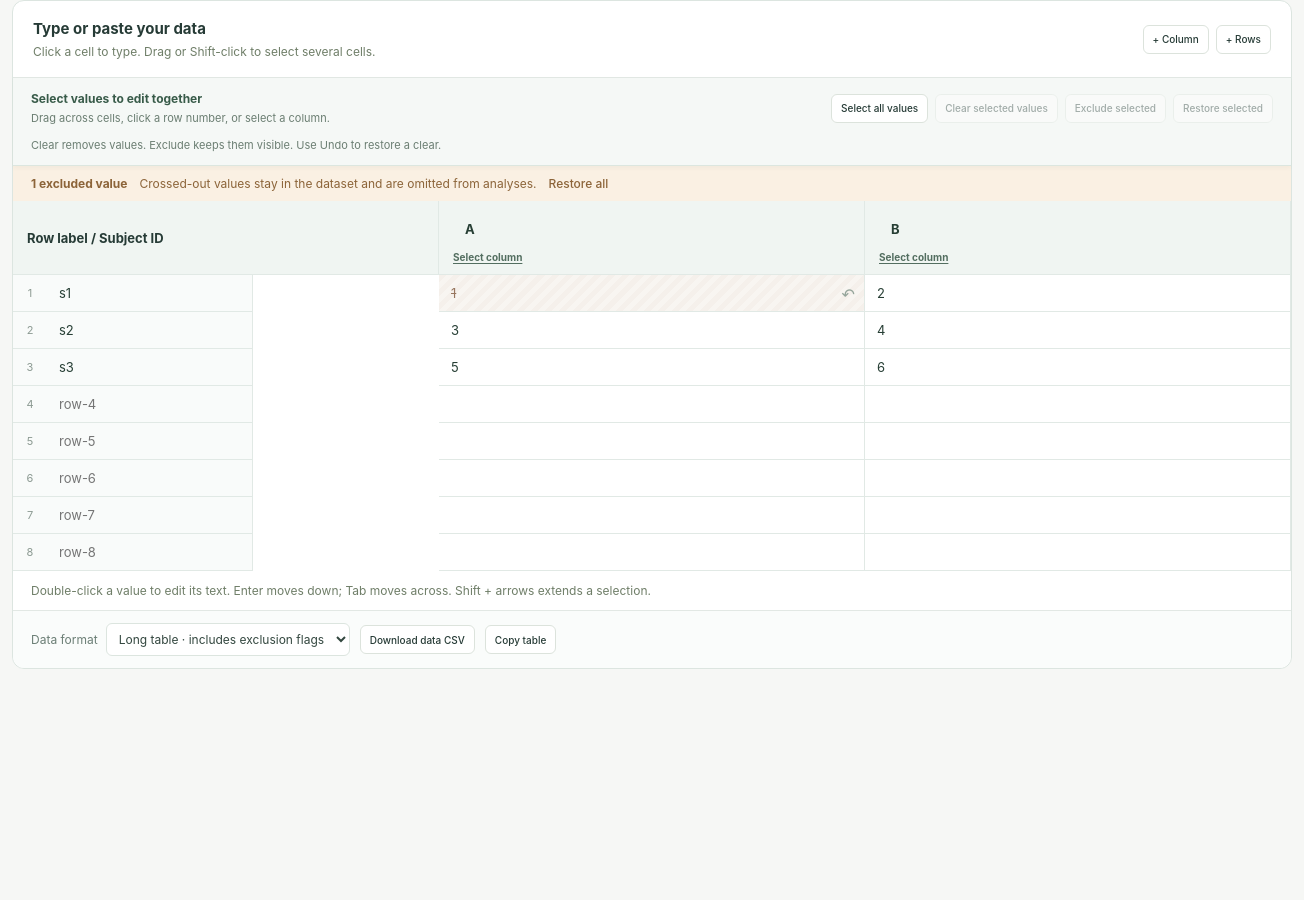
Test: supports drag selection, one keyboard clear and one workspace Undo restoring every affected value
Step 1. Press the mouse on the field named "A, row 1" → (652, 293), box x1=439 y1=275 x2=864 y2=311
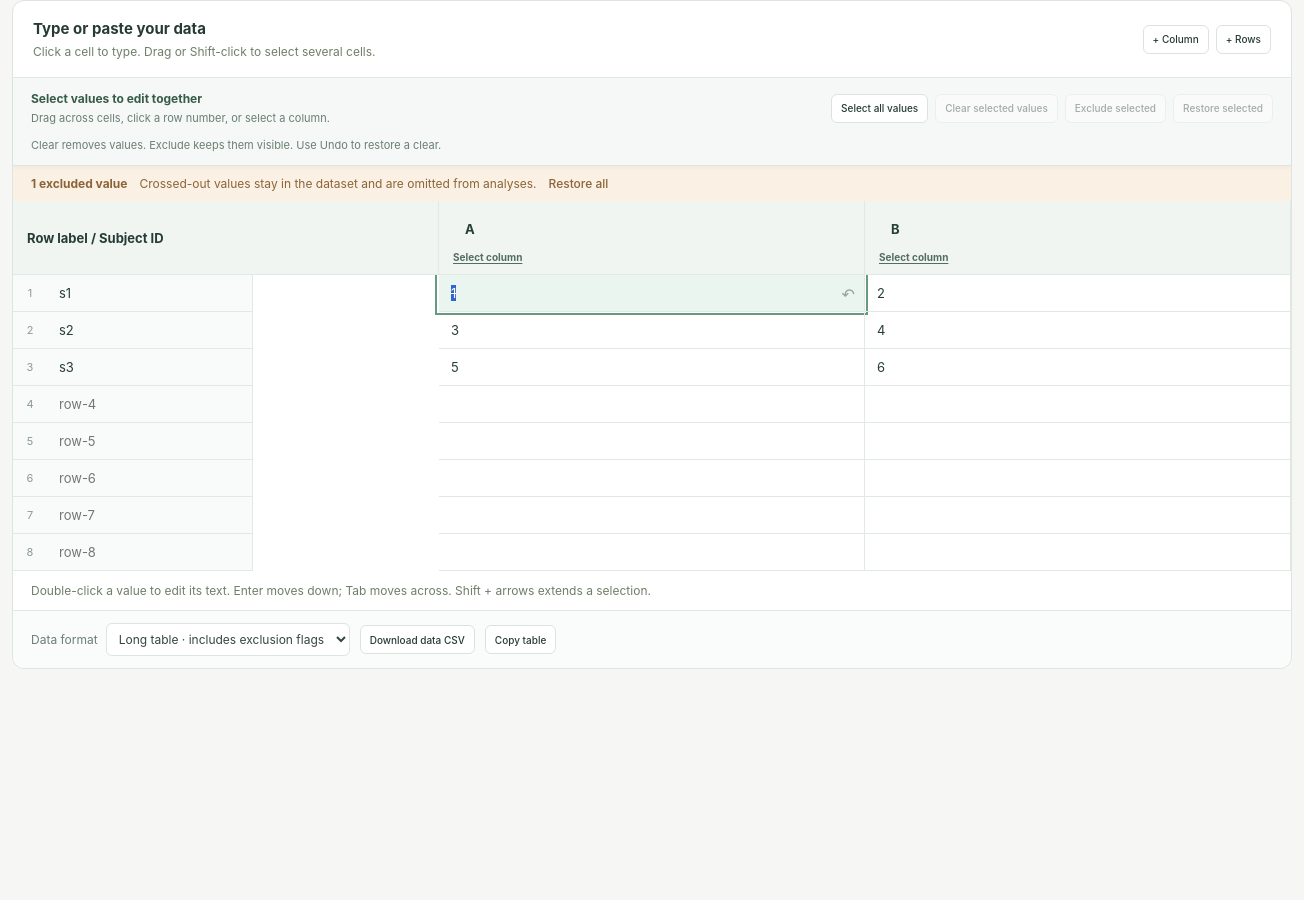
Step 2. Hover over the field named "B, row 2" → (1078, 330), box x1=865 y1=312 x2=1290 y2=348
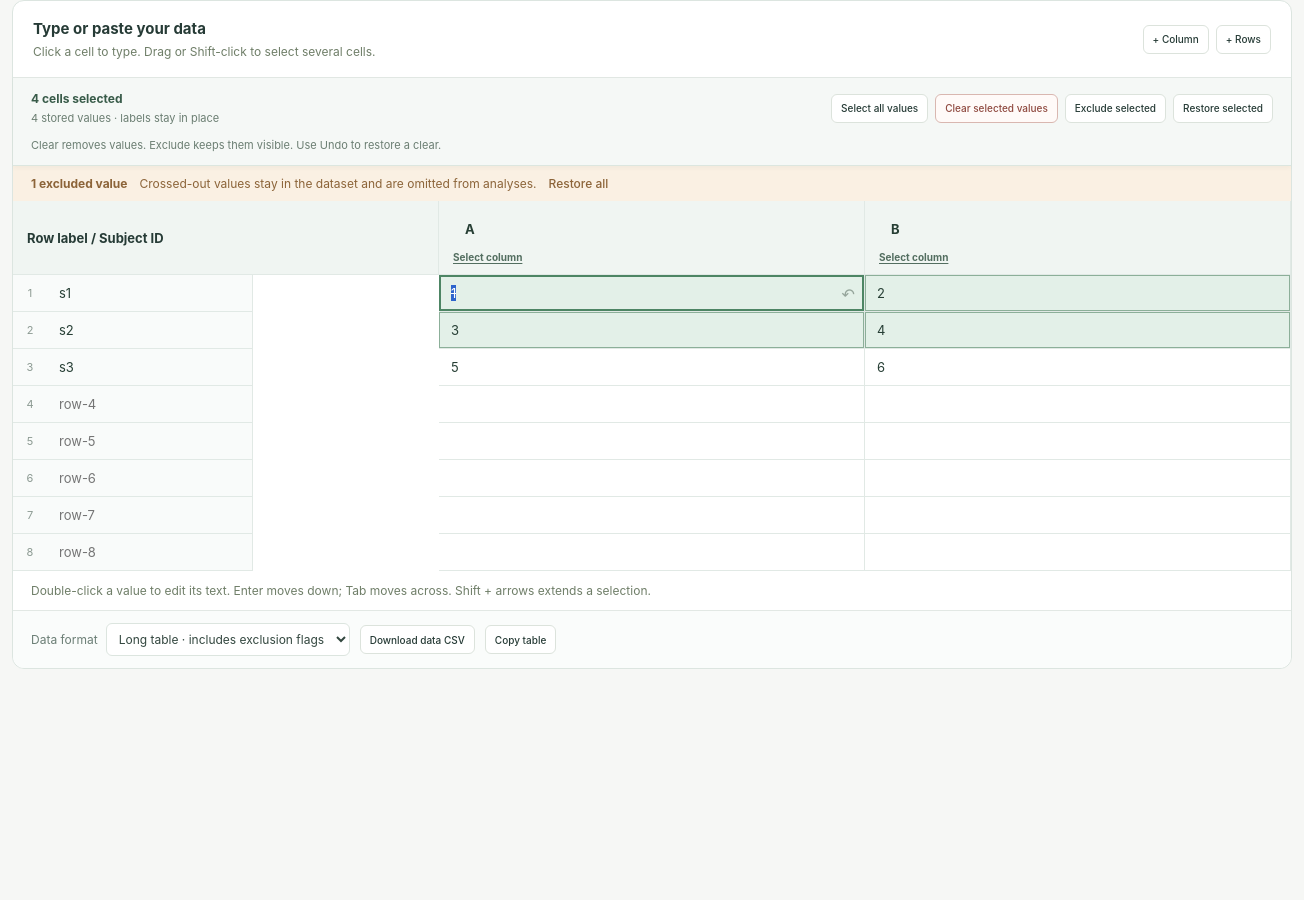
Expected: the text "4 cells selected" is shown, x1=31 y1=91 x2=123 y2=106
Step 3. Press Delete in the field named "A, row 1", box x1=439 y1=275 x2=864 y2=311
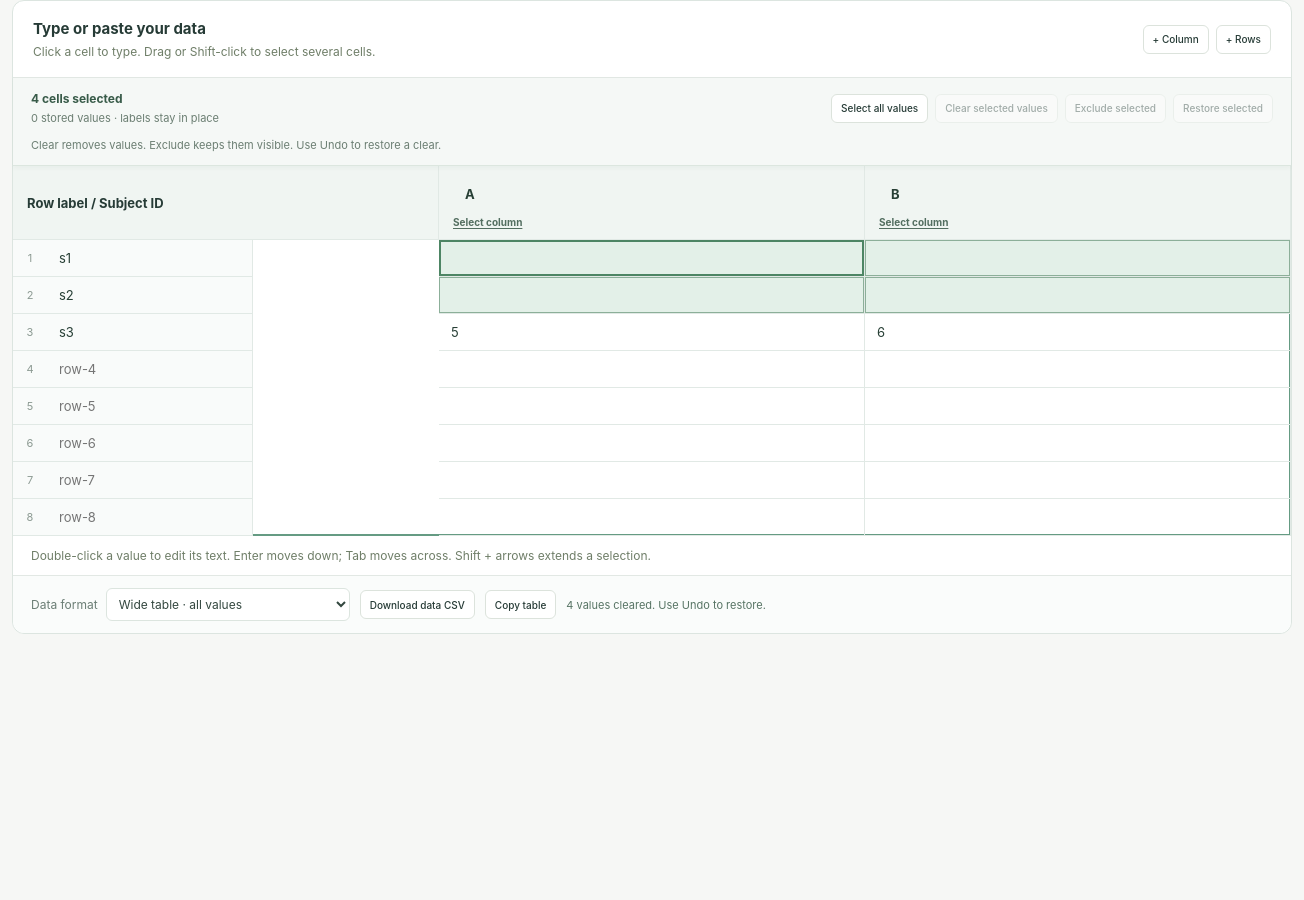
Step 4. Press z in the element named "Data cells", box x1=13 y1=166 x2=1291 y2=536
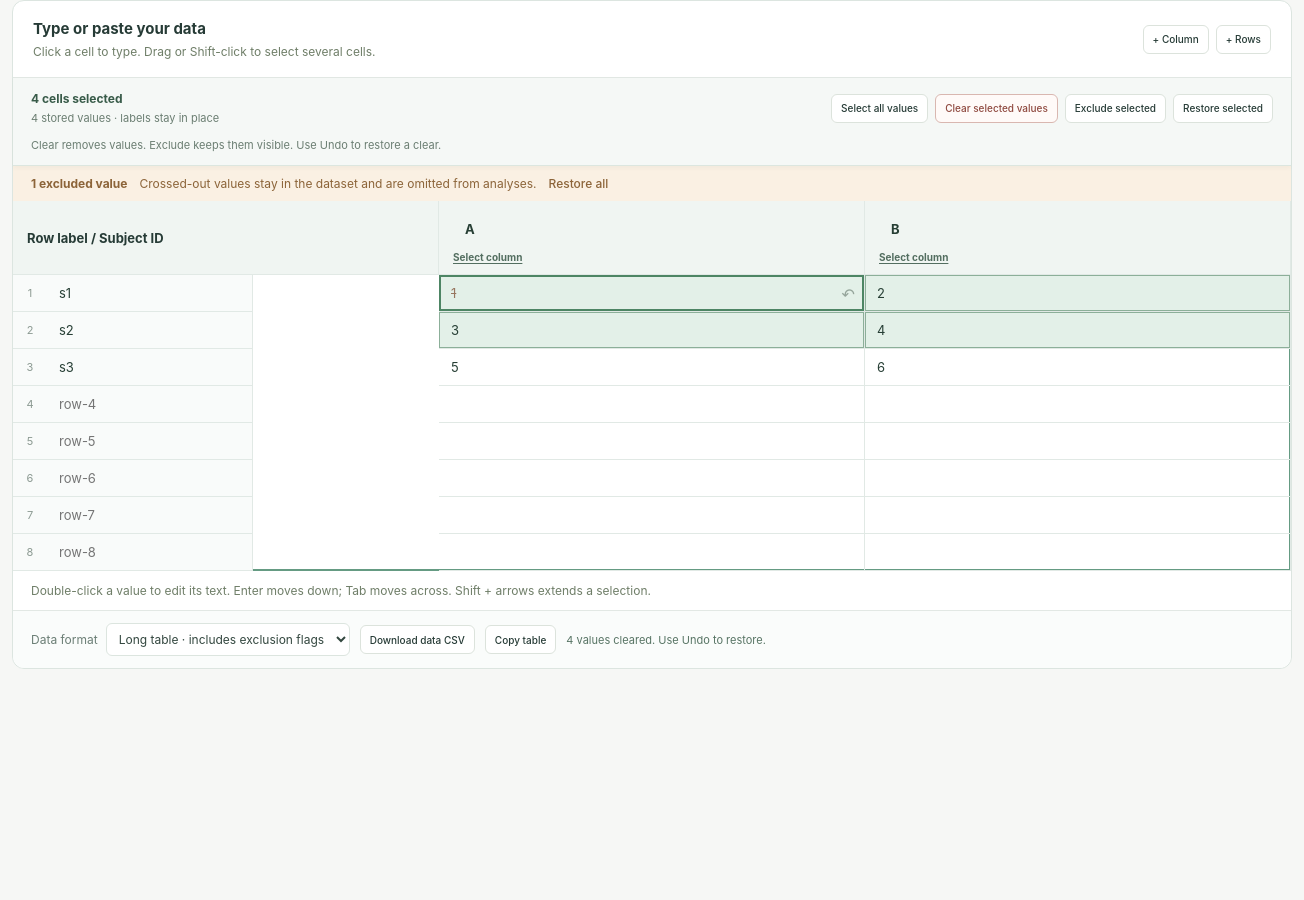
Expected: the number of cells with class "data-grid-cell-excluded" is 1, x1=439 y1=275 x2=865 y2=312
